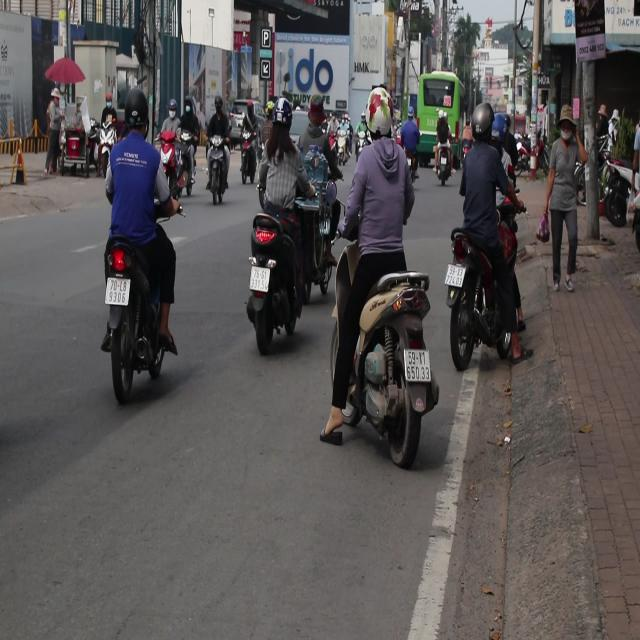bus: (420, 74, 465, 142)
car: (229, 100, 266, 140)
motorbike: (344, 272, 441, 466), (91, 233, 186, 426), (438, 227, 536, 371), (247, 211, 307, 356), (294, 177, 344, 301), (599, 157, 634, 227), (208, 130, 233, 218), (235, 124, 259, 180), (403, 141, 426, 196), (158, 125, 172, 197), (433, 142, 453, 186), (100, 110, 114, 167), (355, 126, 374, 168), (182, 131, 194, 185), (332, 128, 348, 168), (326, 128, 338, 165)
